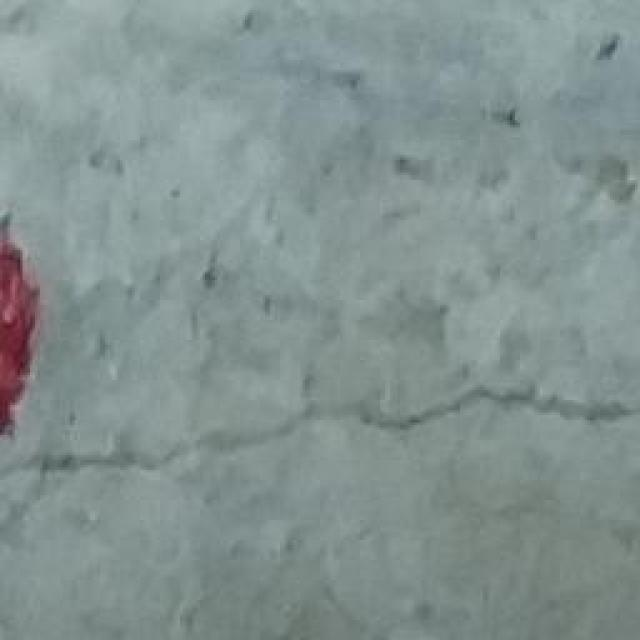Transverse: (0, 389, 640, 490)
